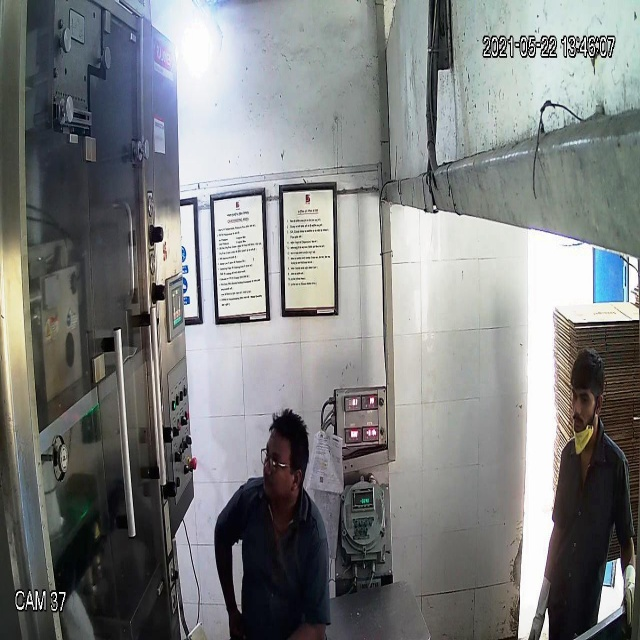Gafas: (260, 447, 305, 476)
Sin_gafas: (568, 386, 601, 412)
